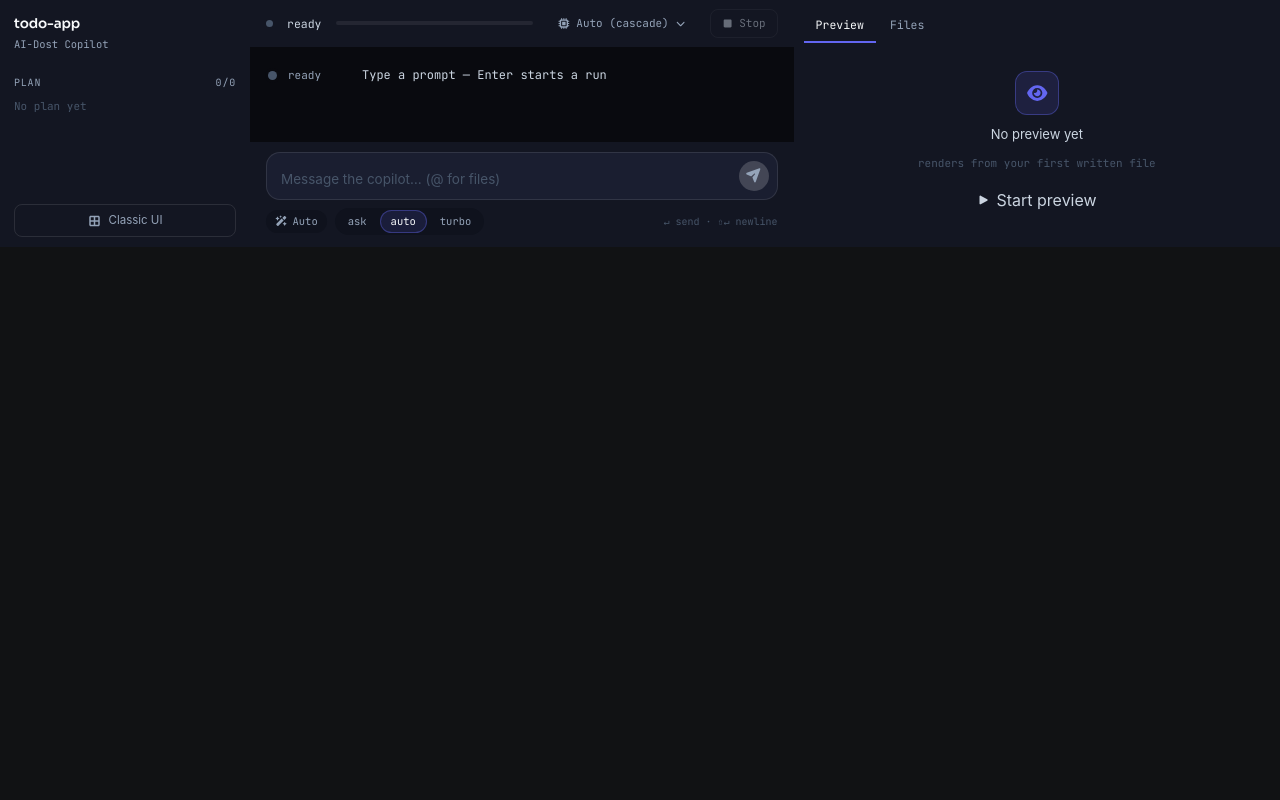
Test: CopilotAurora (P11 A2 — real run wiring) › Ctrl+K opens the palette, filters, Enter executes (permission switch)
Press k
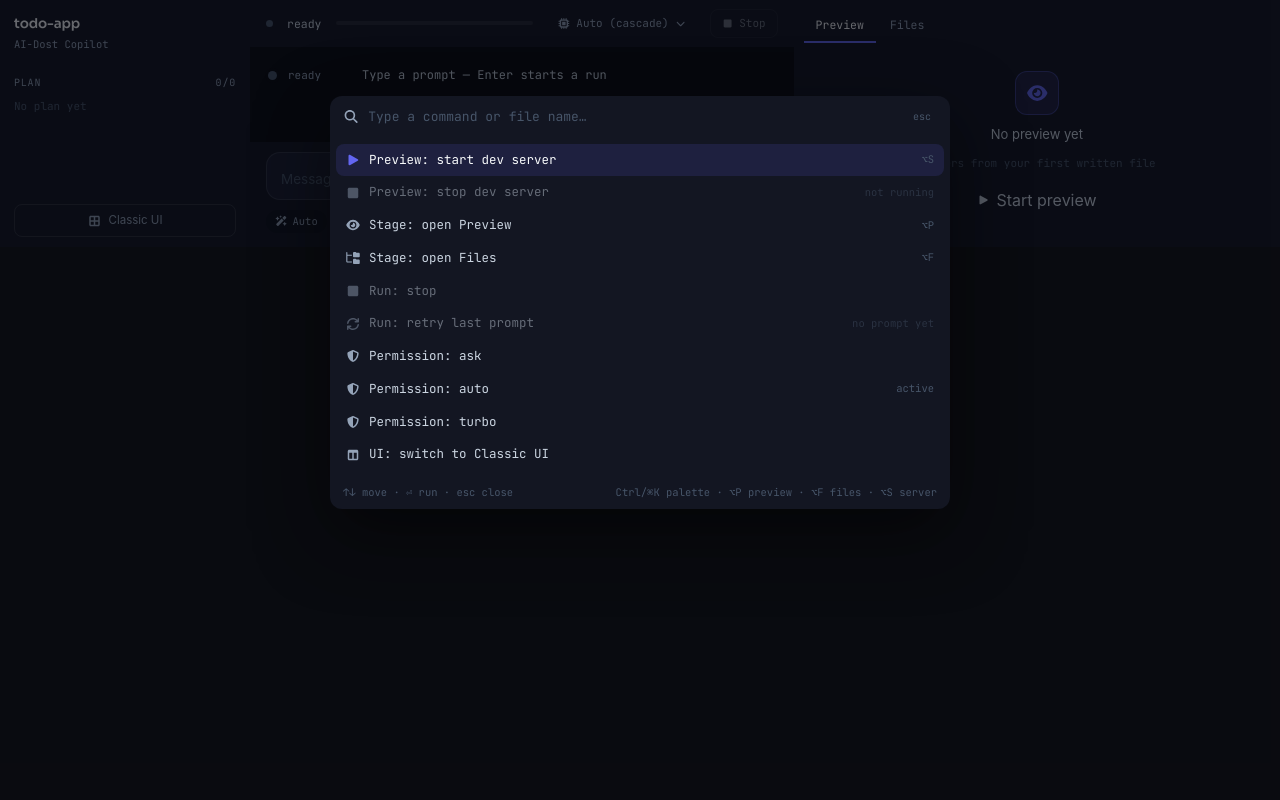
Check: the field with test id "palette-input" is shown
Note: filter narrows to the turbo permission row…
Type "turbo" into the field with test id "palette-input".
click(633, 117); type("turbo")  # box [368,107,898,126]
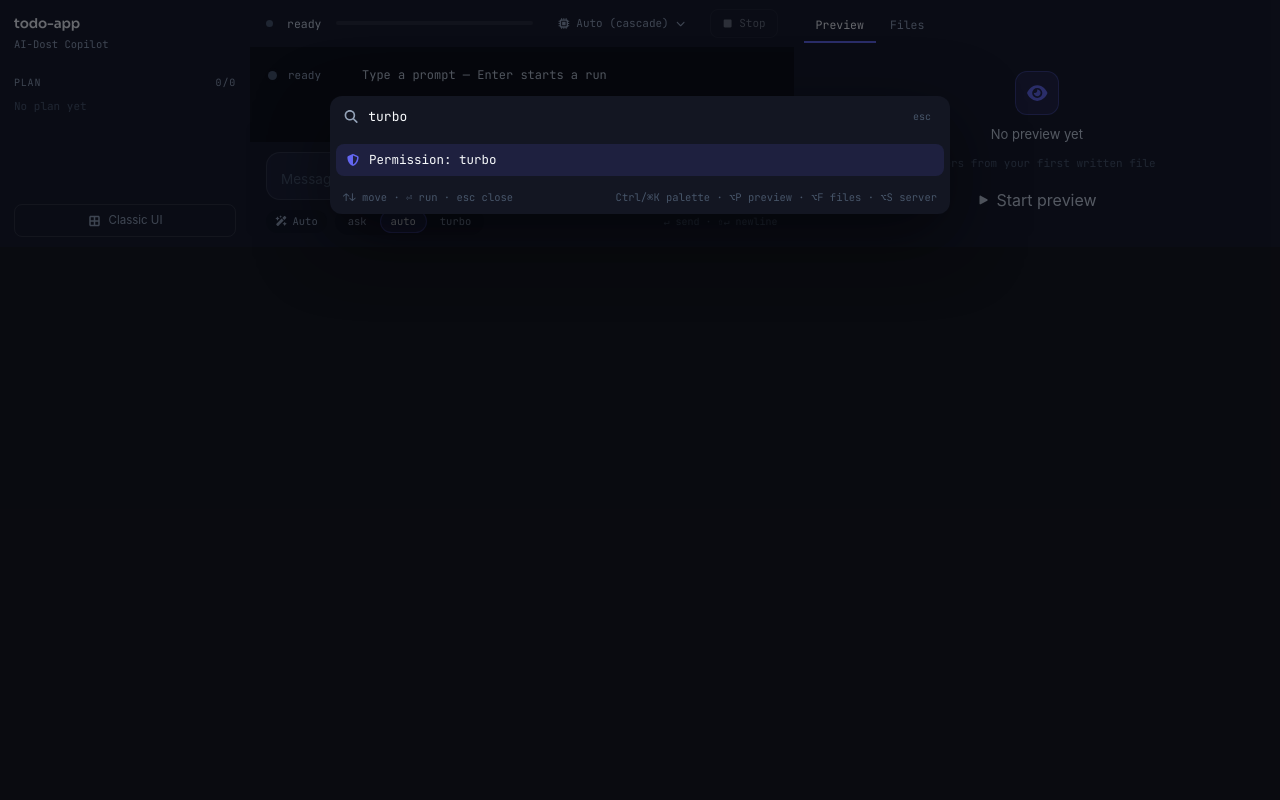
Check: the option with test id "palette-item" reads "Permission: turbo", box [336,144,944,176]
Check: the number of options with test id "palette-item" is 1, box [336,144,944,176]
Note: …Enter runs it: palette closes, segment flips, no palette left behind
Press Enter in the field with test id "palette-input", box [368,107,898,126]
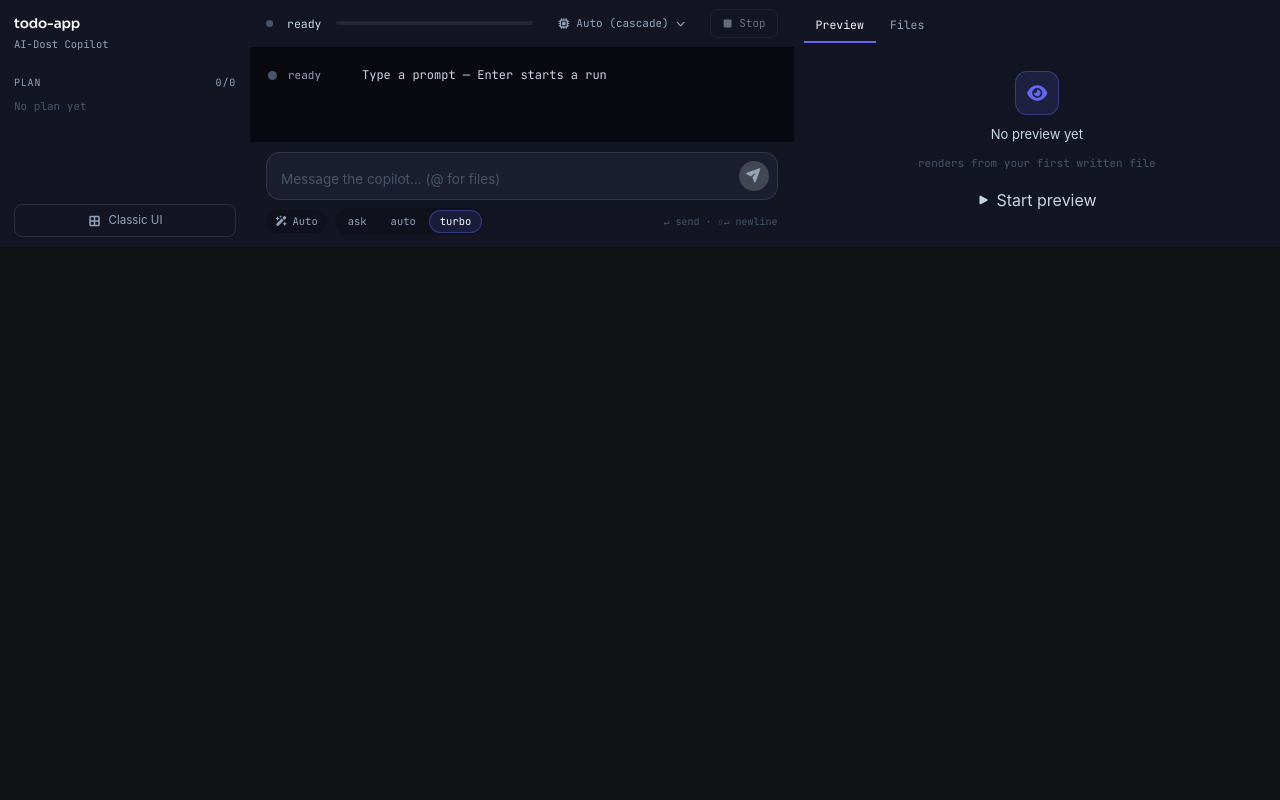
Check: the element with test id "aurora-palette" is gone
Note: Esc closes without executing anything — turbo (from Enter) stays active
Press k
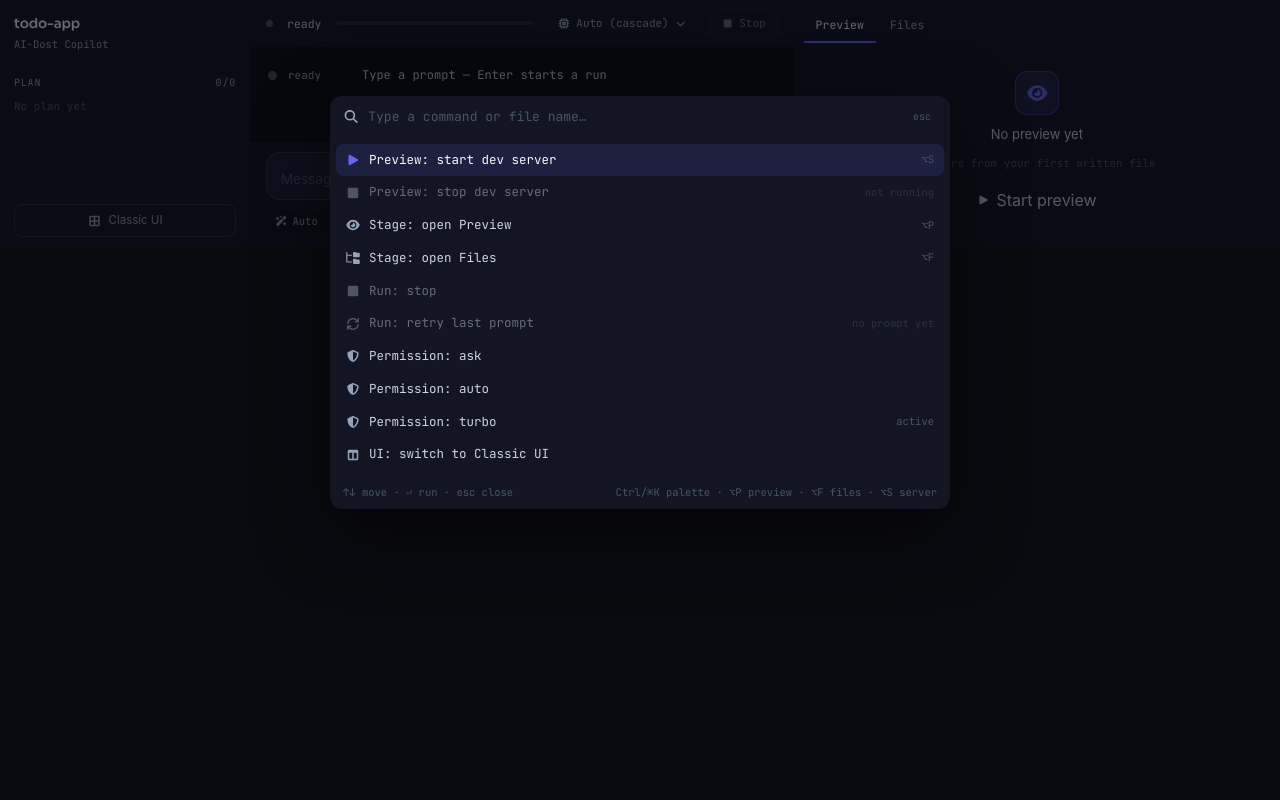
Check: the element with test id "aurora-palette" is shown
Press Escape in the field with test id "palette-input", box [368,107,898,126]
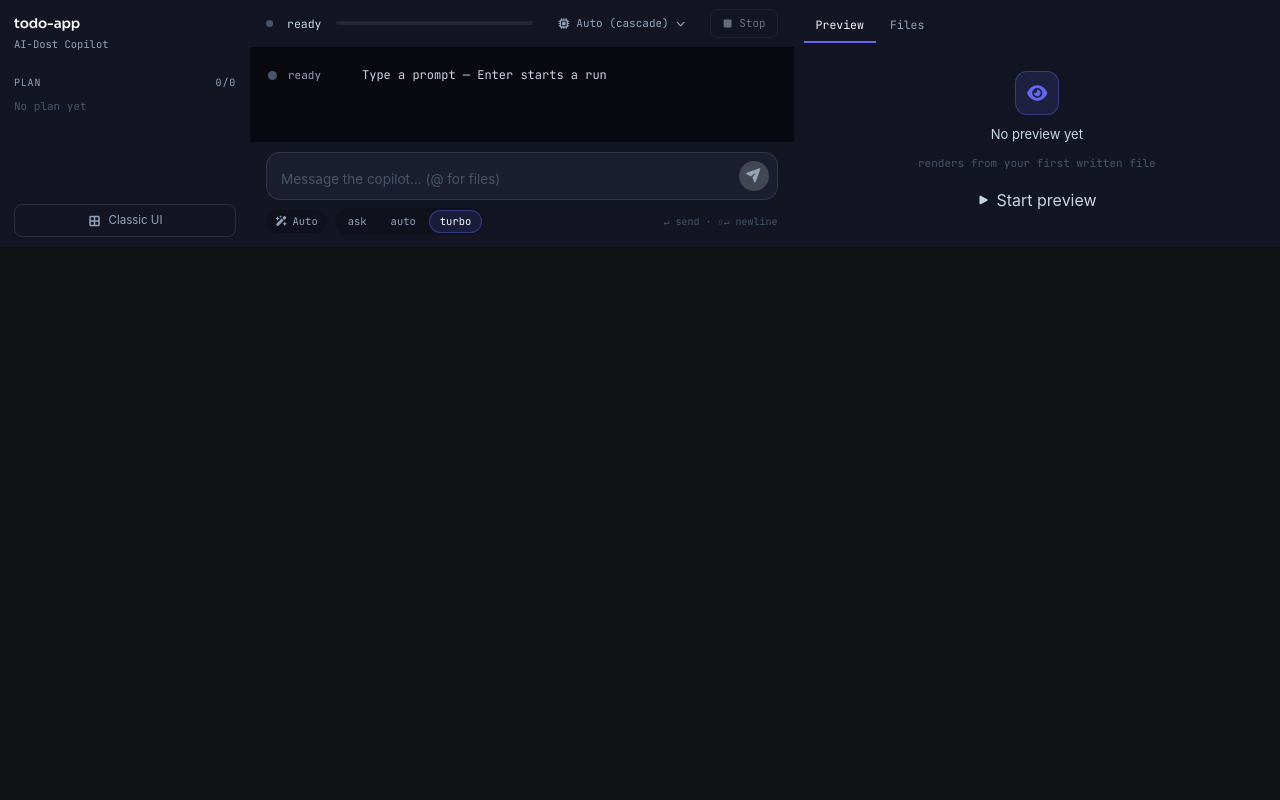
Check: the element with test id "aurora-palette" is gone
